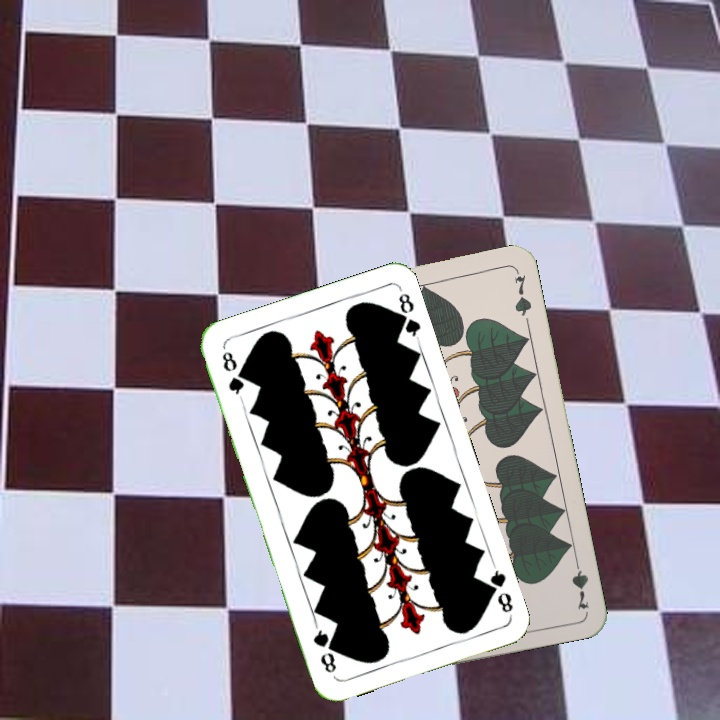G7: (567, 553, 592, 612)
G8: (481, 560, 516, 618), (218, 347, 247, 402)
